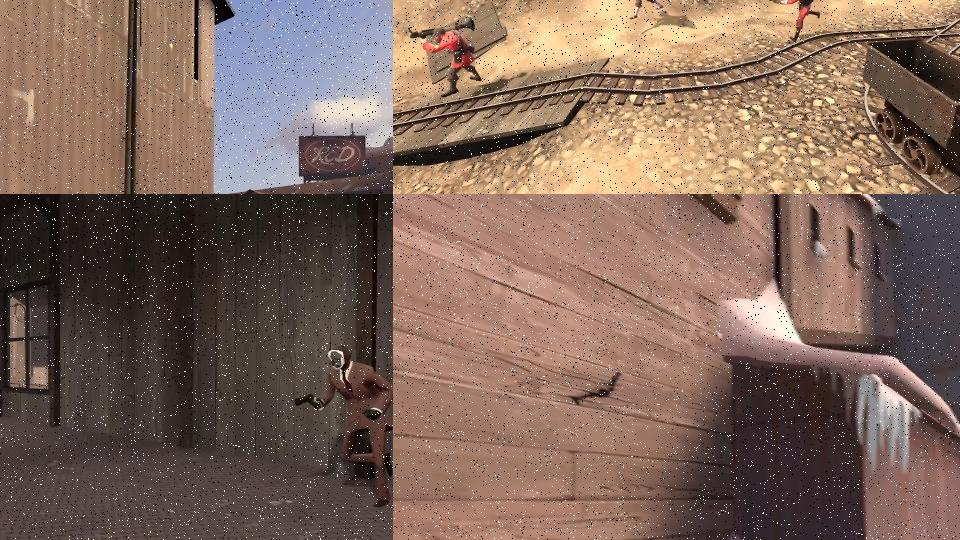Enemy: (292, 345, 393, 509), (408, 16, 484, 98), (767, 0, 822, 43), (622, 0, 665, 20)
